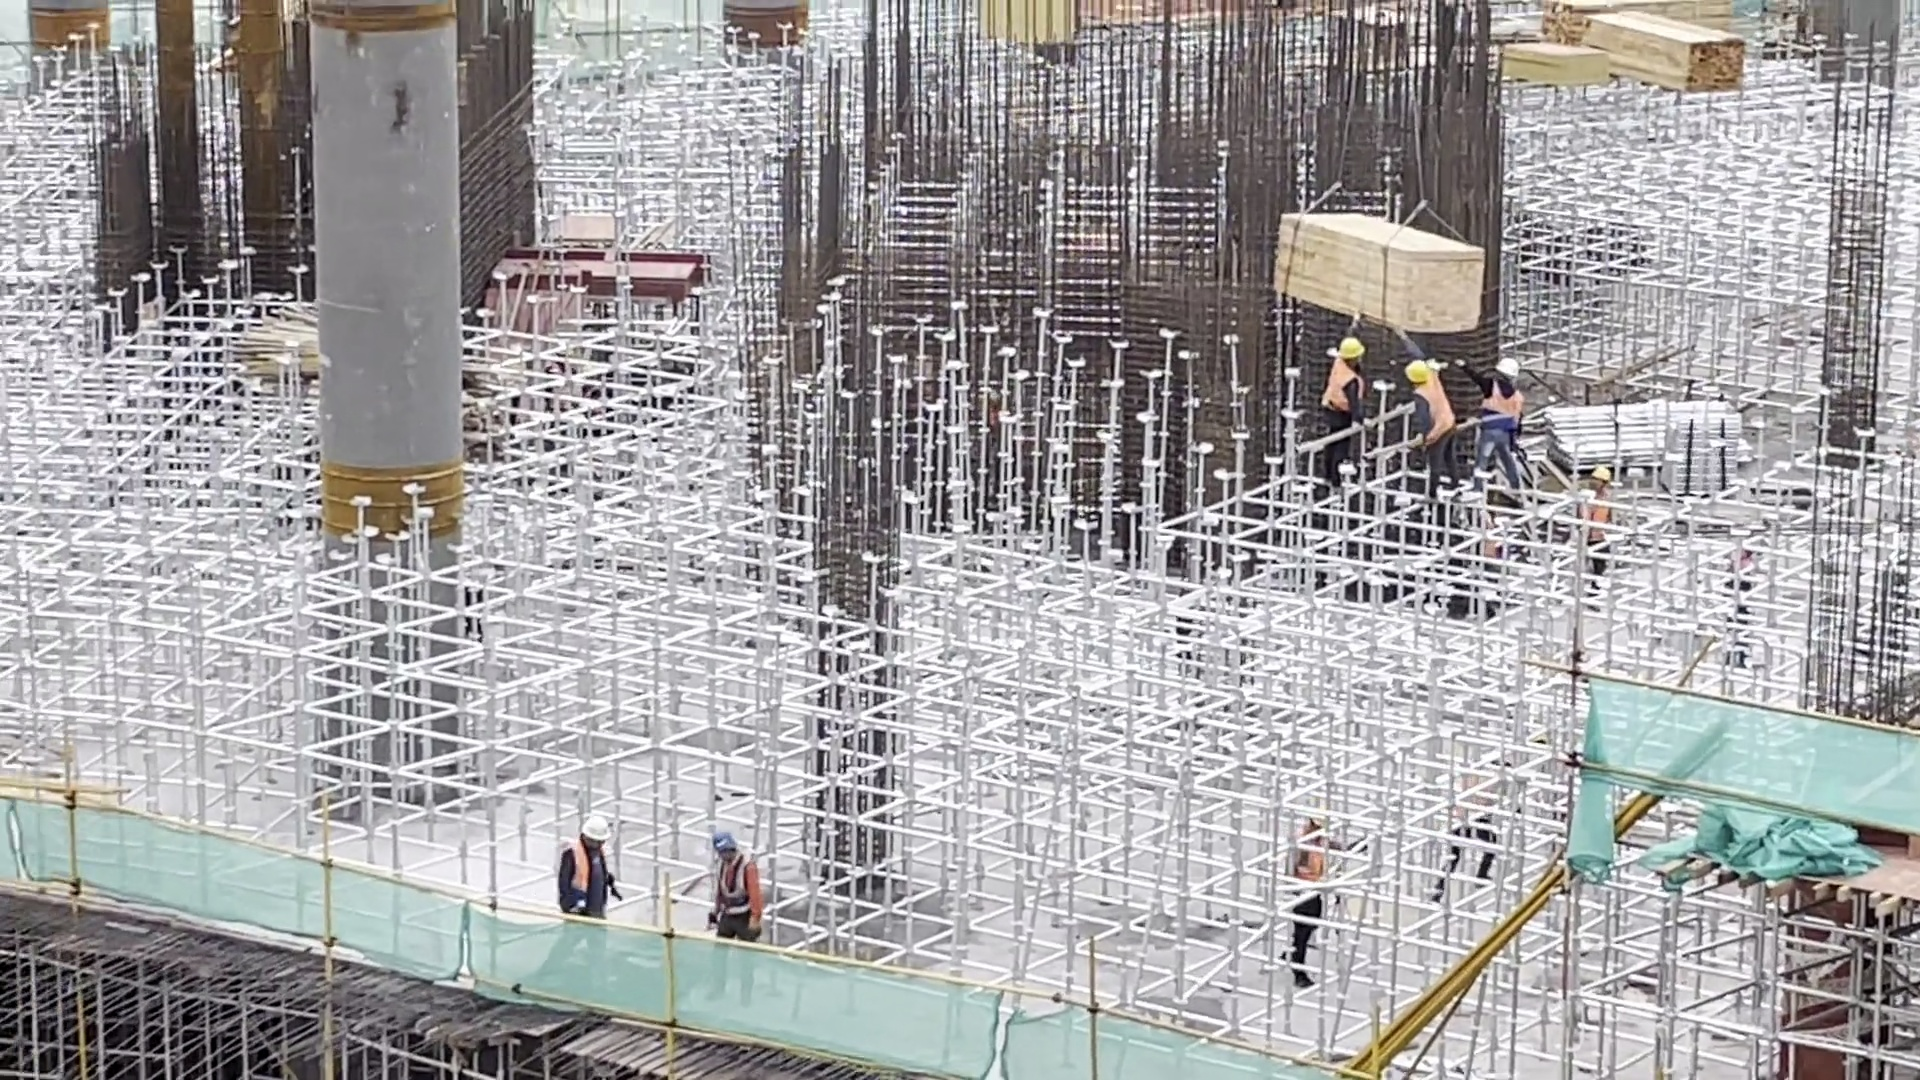helmet: (583, 812, 611, 846), (1402, 358, 1432, 384), (711, 831, 738, 857), (1337, 334, 1364, 358), (1495, 355, 1518, 382), (1592, 465, 1612, 483)
person: (533, 816, 617, 985), (1378, 321, 1458, 497), (1286, 801, 1346, 992), (1449, 343, 1518, 506), (704, 832, 755, 1008), (1317, 326, 1371, 486), (1571, 450, 1613, 585)
vest: (555, 839, 614, 914), (1412, 379, 1457, 449), (715, 855, 759, 919), (1322, 361, 1366, 414), (1482, 381, 1520, 435)
